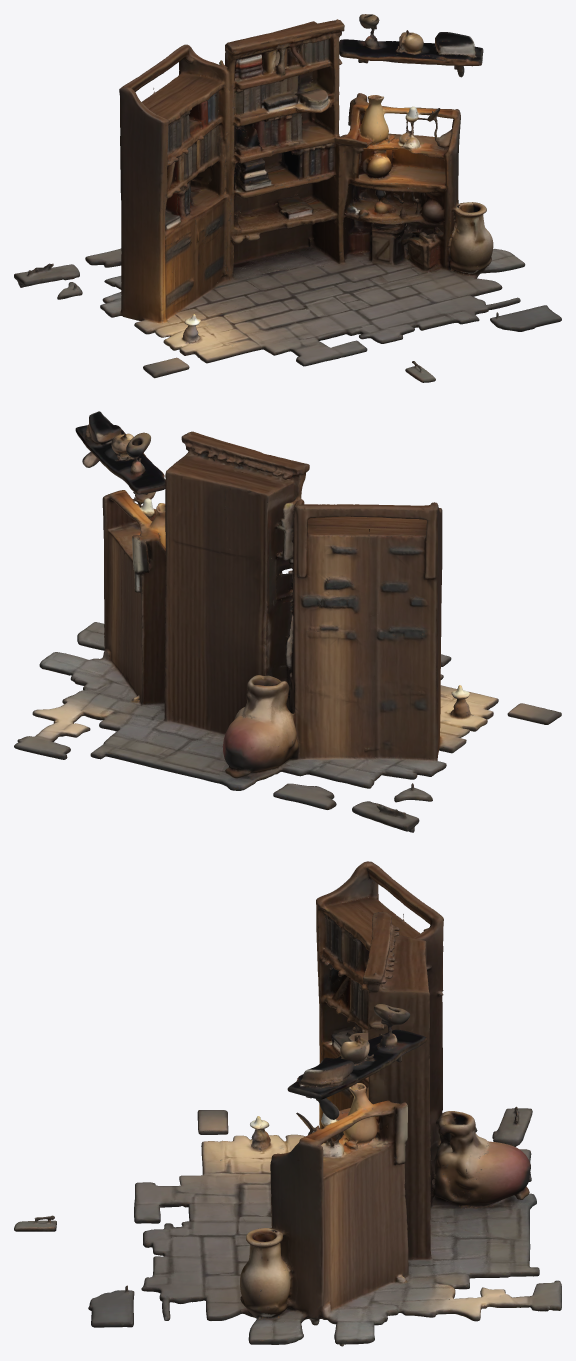
Rendered from The_Lanterned_Archive_opt.glb.
The picture shows the model from 3 angles, top to bottom: view 1: azimuth 30°, elevation 25°; view 2: azimuth 150°, elevation 25°; view 3: azimuth 270°, elevation 25°; orthographic projection. The views are drawn at different scales.
Size of the model in its own units: 2 by 1.2 by 1.99.
1 material, 1 textured.
